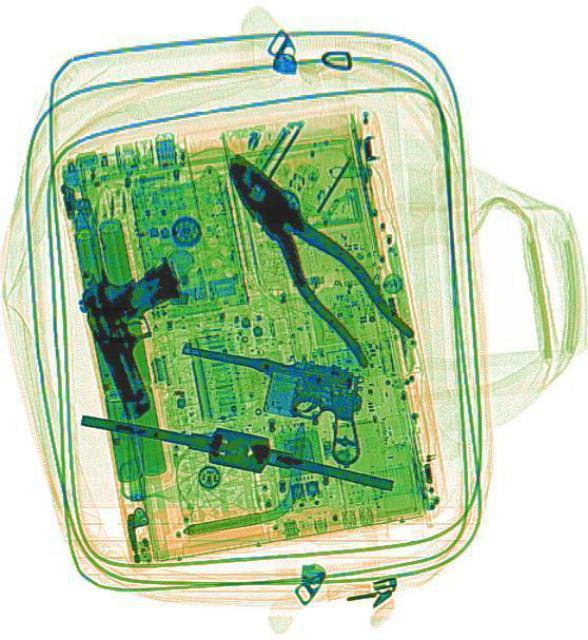Gun: (165, 336, 371, 464), (70, 252, 215, 420)
Pliers: (201, 132, 415, 374)
